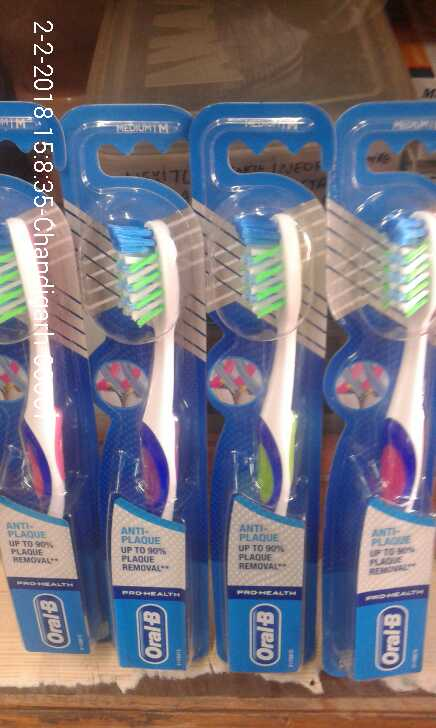oralb: (77, 206, 208, 671), (325, 181, 432, 675), (214, 192, 314, 668), (1, 212, 76, 653)
